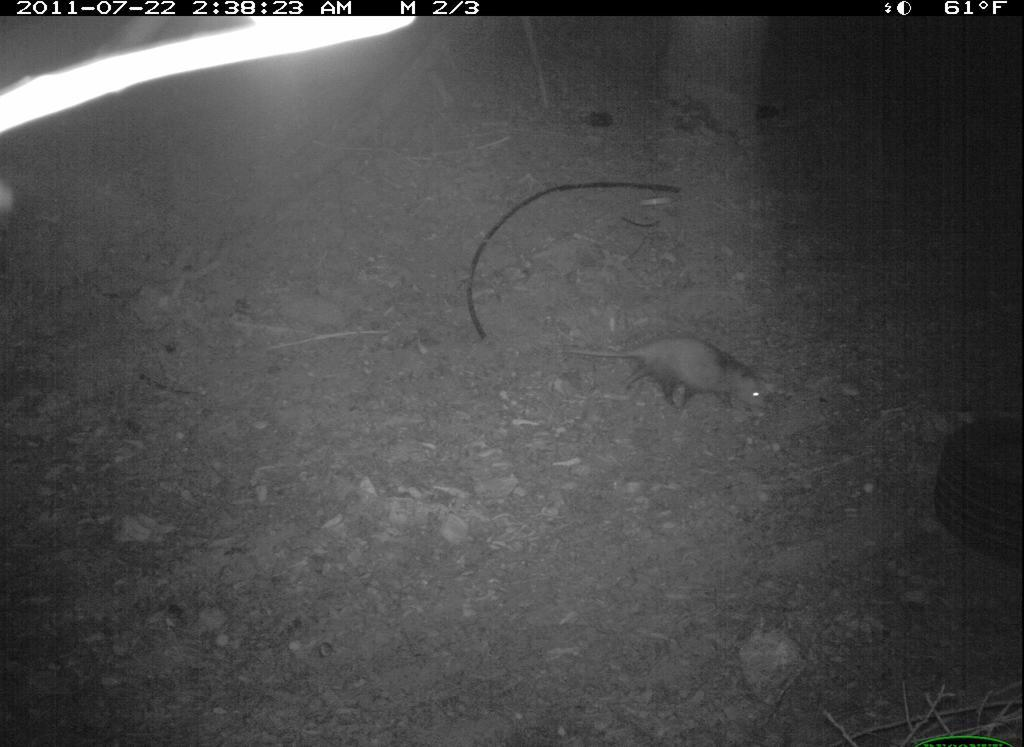opossum: (591, 323, 776, 428)
